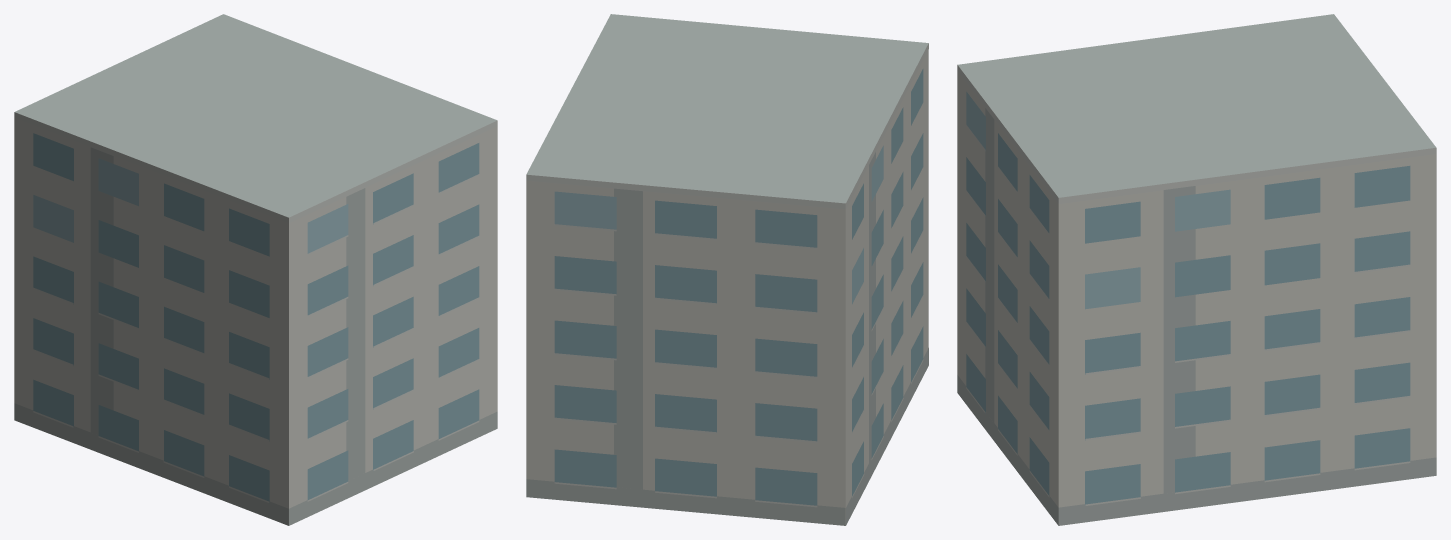
File: survey-upis-32568858.glb
3 renders of one model, left to right at view 1: azimuth 30°, elevation 25°; view 2: azimuth 150°, elevation 25°; view 3: azimuth 270°, elevation 25°, orthographic. The views are drawn at different scales.
Visible parts, largest first — view 1: survey-upis-32568858.tmp; view 2: survey-upis-32568858.tmp; view 3: survey-upis-32568858.tmp.
Boxes of the visible parts, bbox=[...] form: survey-upis-32568858.tmp: bbox=[14, 14, 497, 525]; survey-upis-32568858.tmp: bbox=[526, 14, 928, 525]; survey-upis-32568858.tmp: bbox=[957, 14, 1436, 525].
Size of the model in its own units: 15.64 by 13 by 17.22.
